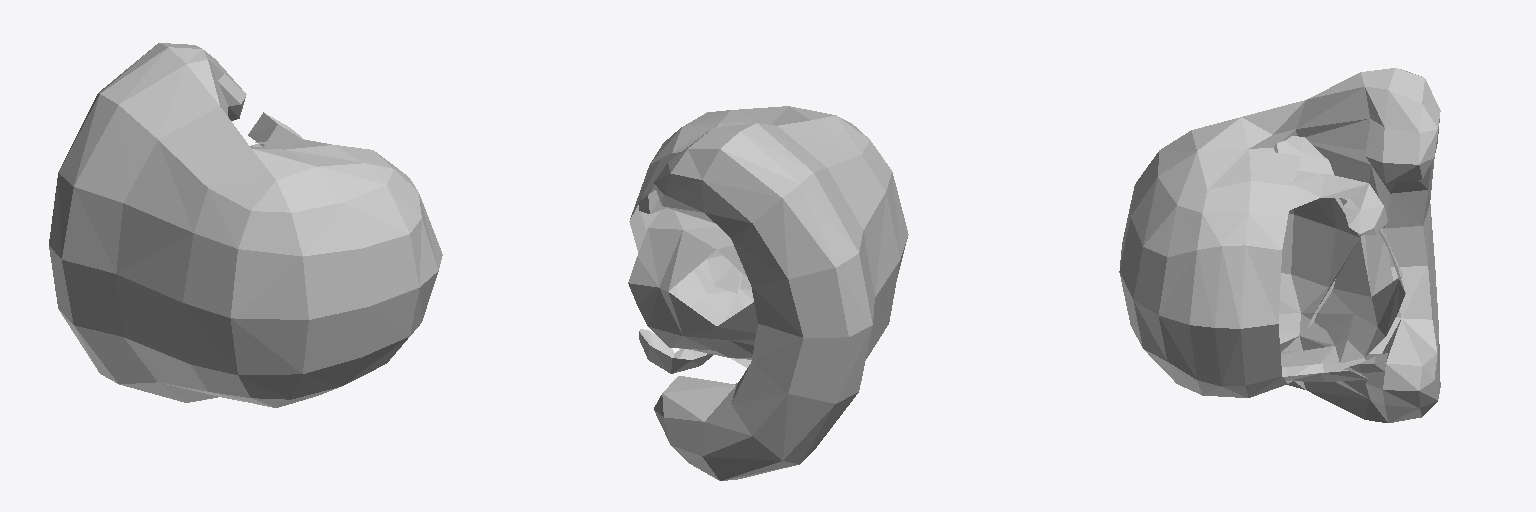
3 renders of one model, left to right at view 1: azimuth 30°, elevation 25°; view 2: azimuth 150°, elevation 25°; view 3: azimuth 270°, elevation 25°, orthographic.
Visible parts, largest first — view 1: vr_head_001; view 2: vr_head_001; view 3: vr_head_001.
Part boxes in pixels (x1,y1,x2,y2): vr_head_001: (49, 43, 442, 407); vr_head_001: (628, 106, 908, 480); vr_head_001: (1119, 68, 1440, 422).
Bounding box in the file's own units: 41.14 × 45.68 × 38.27.